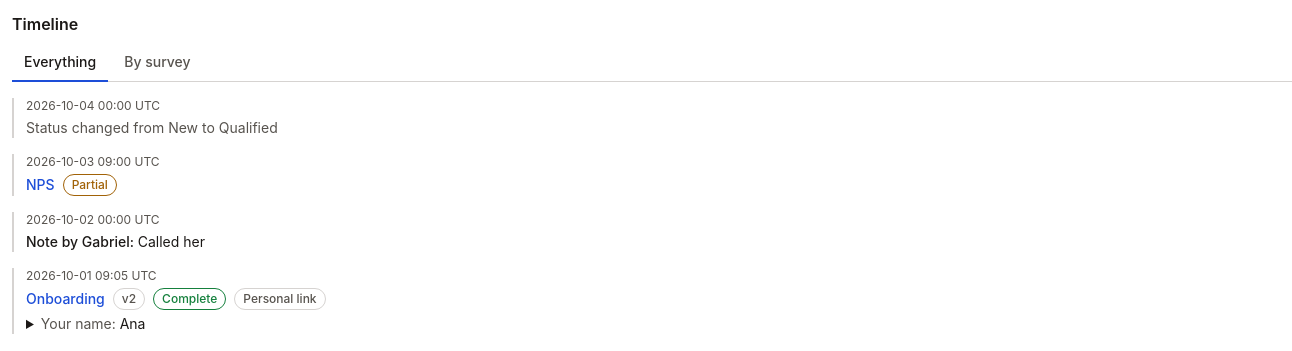
Test: Timeline › renders every item with a quick answer preview and groups by survey
The image size is (1292, 351).
Expected: the number of list items with test id "timeline-response" is 2, [12,154,1291,196]; [12,268,1291,334]
Expected: the text "Status changed from New to Qualified" is shown, [26,118,278,138]
Click the tab "By survey" at (157,63), box [112,44,203,82]
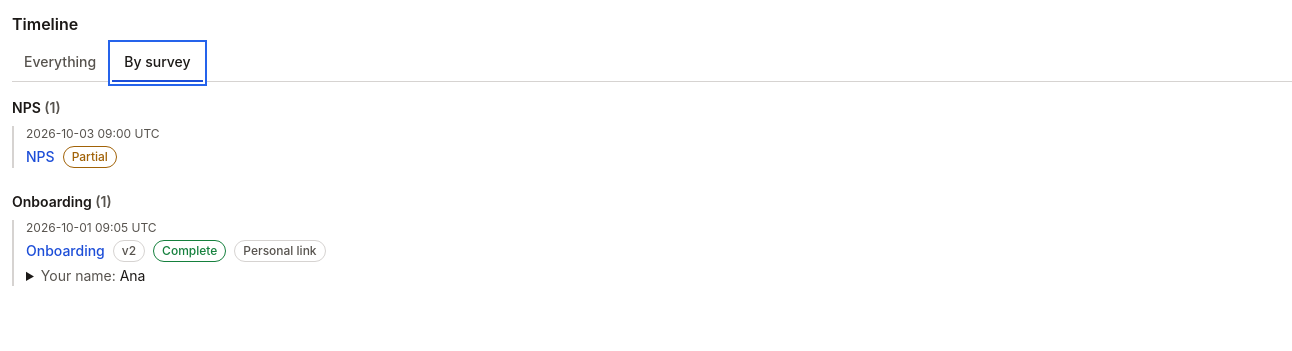
Expected: the element "Onboarding" is shown, [12,192,1291,286]
Expected: the element "NPS" is shown, [12,98,1291,168]
Expected: the text "Called her" is gone
